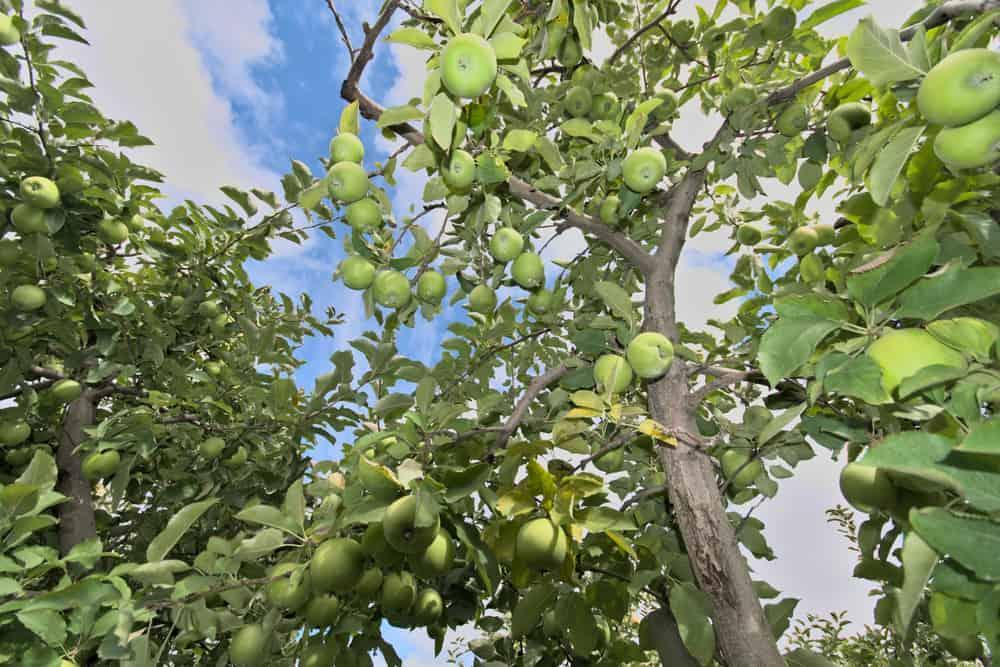apple: (916, 48, 998, 127), (380, 492, 442, 550), (441, 34, 495, 98), (308, 532, 366, 590), (514, 514, 569, 574), (626, 331, 673, 378), (620, 147, 666, 193), (826, 101, 871, 145), (324, 161, 368, 203), (591, 353, 632, 393), (267, 567, 308, 606), (370, 267, 409, 307), (380, 571, 420, 610), (442, 146, 475, 191), (18, 175, 59, 207), (488, 225, 523, 261), (511, 251, 544, 289), (338, 255, 374, 289), (329, 133, 363, 162), (469, 283, 498, 315), (419, 267, 446, 301)
